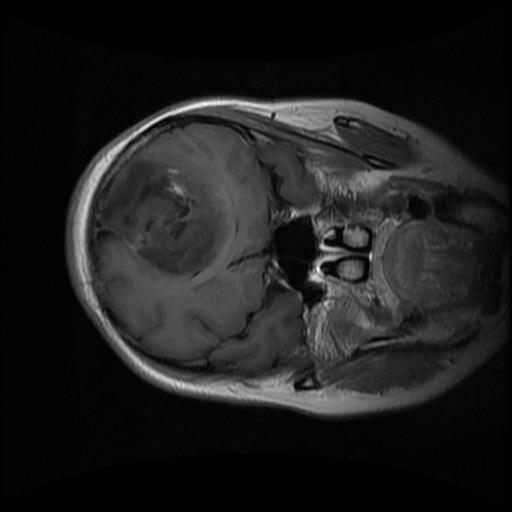glioma: (97, 160, 221, 277)
